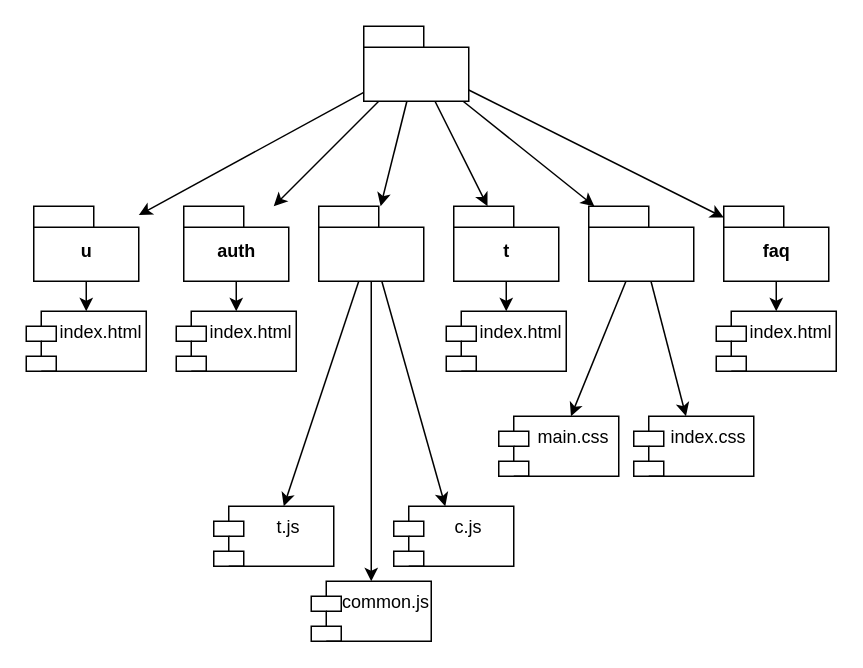
This 863x668 diagram has some shape labels left out. The shapes that lost their labels are listed below. From the top down, each one's centre as x and y in pixels, then its label:
the point at 415,63: padziei
the point at 370,243: js
the point at 640,243: css
